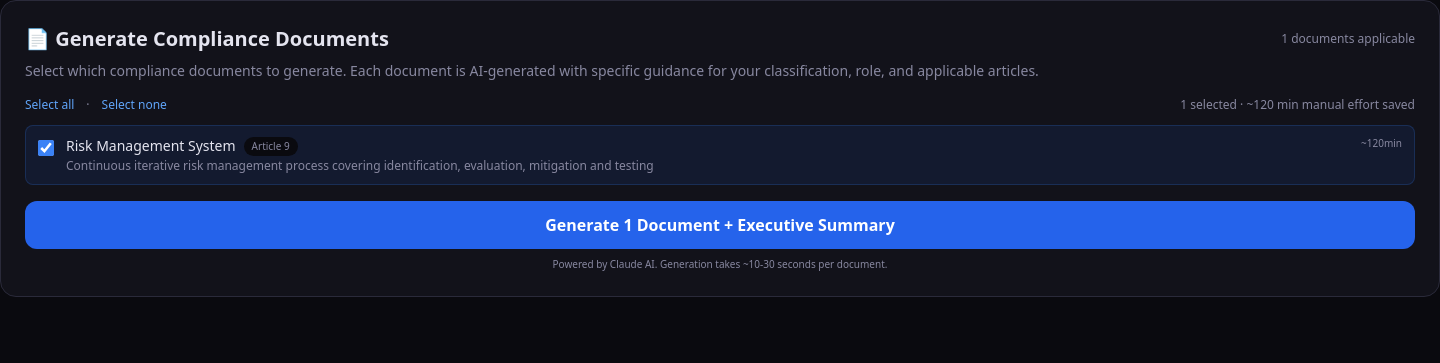
it: L6-DG-D: Done state › DG-D08: clicking Regenerate returns to idle state
Click the button "Generate 1 Document + Executive Summary": (720, 225) x1=25 y1=201 x2=1415 y2=249
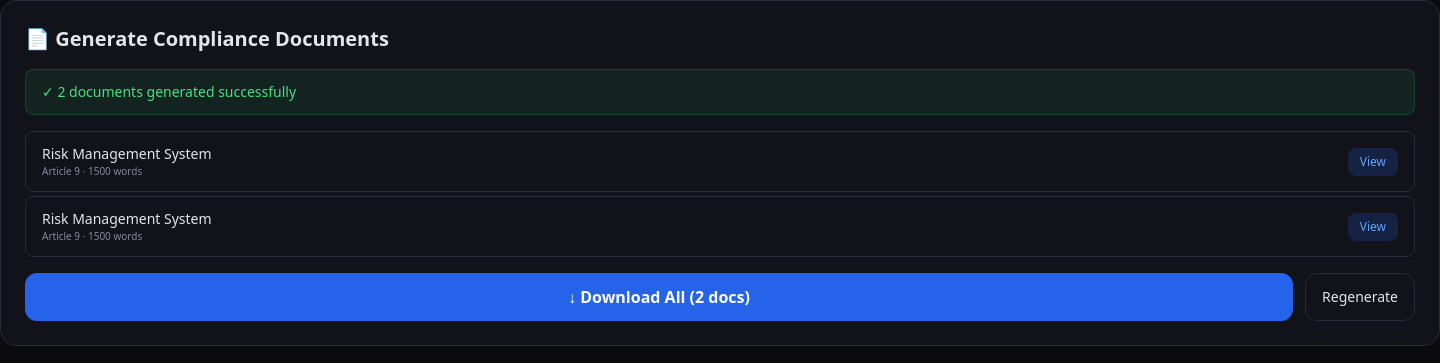
Click the button "Regenerate": (1360, 297) x1=1305 y1=273 x2=1415 y2=321
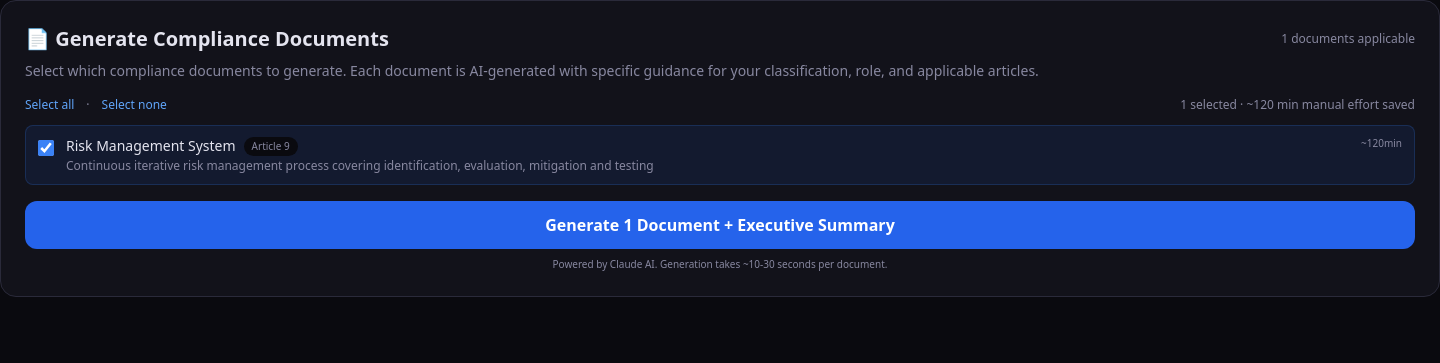
Expected: the button "Generate 1 Document + Executive Summary" is shown, x1=25 y1=201 x2=1415 y2=249
Expected: the button "Select all" is shown, x1=25 y1=97 x2=74 y2=113
